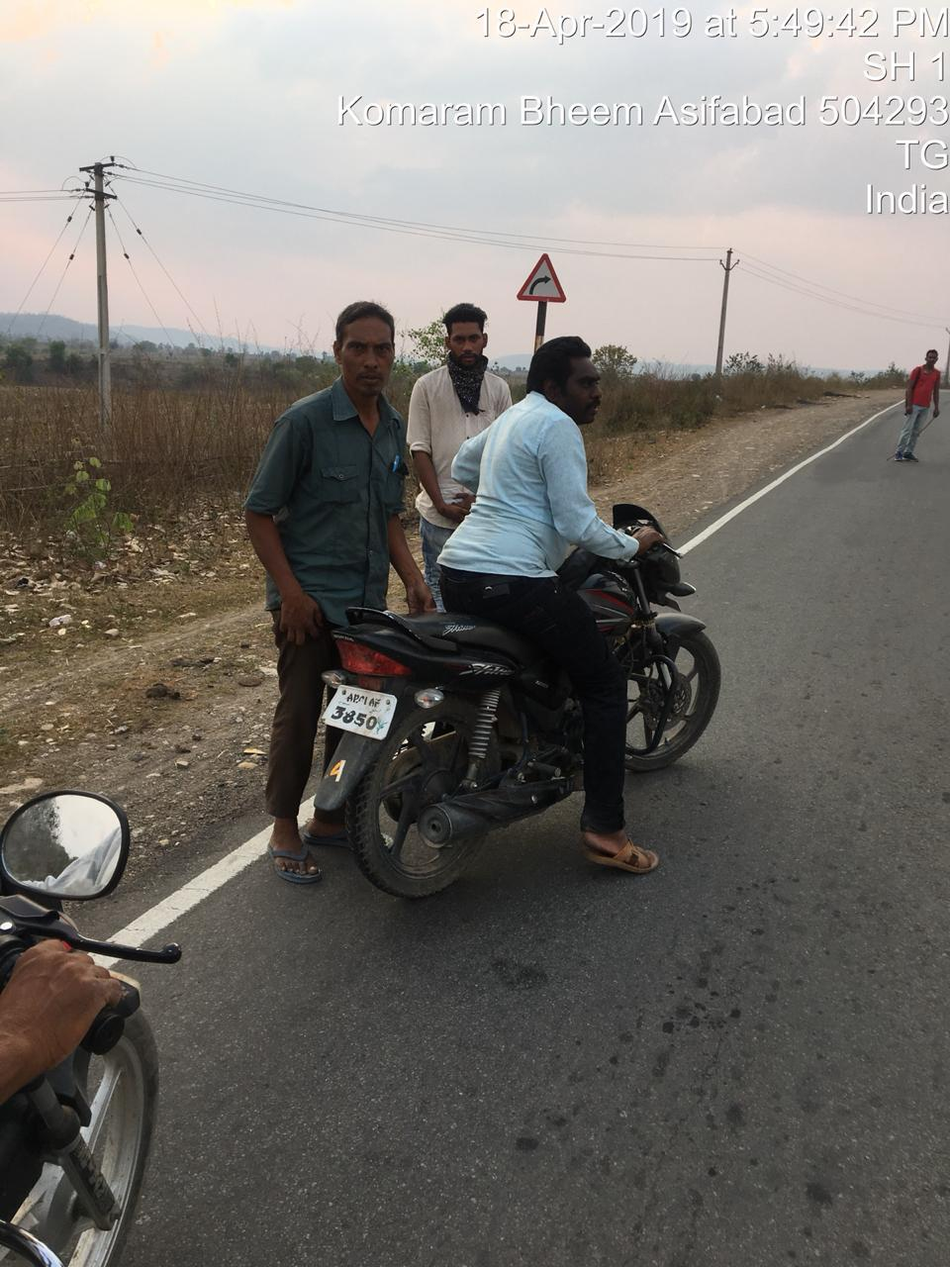plate: (308, 657, 425, 748)
